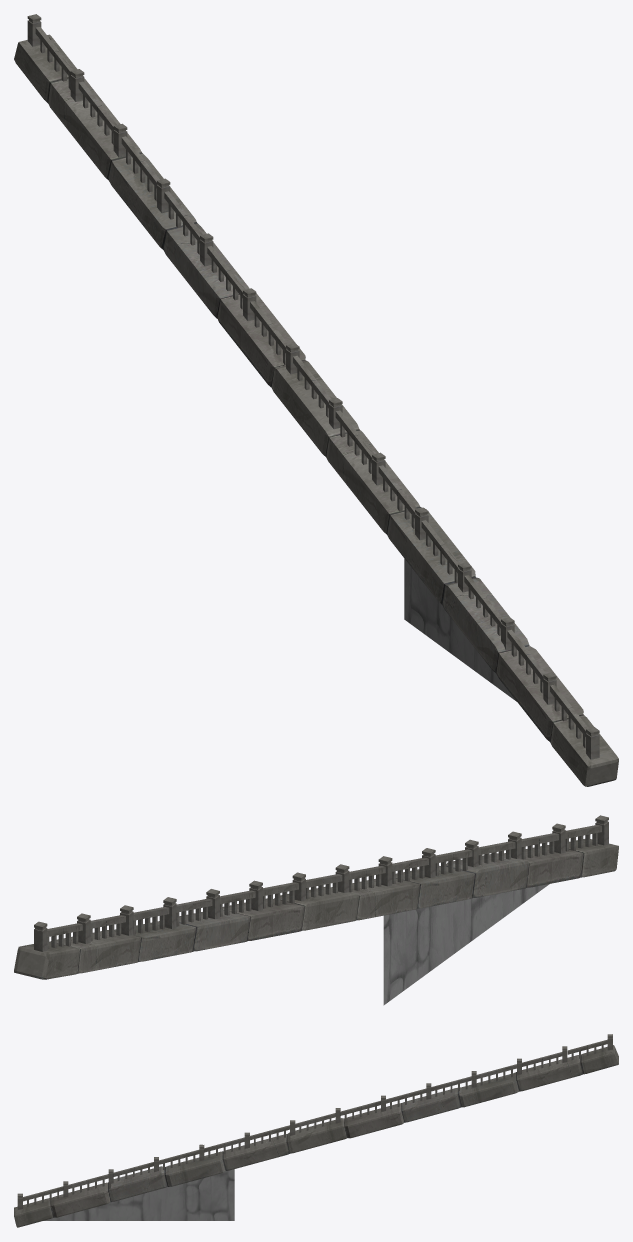
File: SM_ENV_KNVLLG_Wall_11.mo.fbx
3 views of the same model, one above another, from view 1: azimuth 30°, elevation 25°; view 2: azimuth 150°, elevation 25°; view 3: azimuth 270°, elevation 25° (orthographic). The views are drawn at different scales.
Visible parts, largest first — view 1: SM_ENV_KNVLLG_Wall_11.mo; view 2: SM_ENV_KNVLLG_Wall_11.mo; view 3: SM_ENV_KNVLLG_Wall_11.mo.
Boxes of the visible parts, x1,y1,x2,y2 form: SM_ENV_KNVLLG_Wall_11.mo: [14, 14, 618, 786]; SM_ENV_KNVLLG_Wall_11.mo: [14, 815, 618, 1005]; SM_ENV_KNVLLG_Wall_11.mo: [14, 1034, 618, 1227].
Size of the model in its own units: 0.8275 by 7.92 by 23.13.
